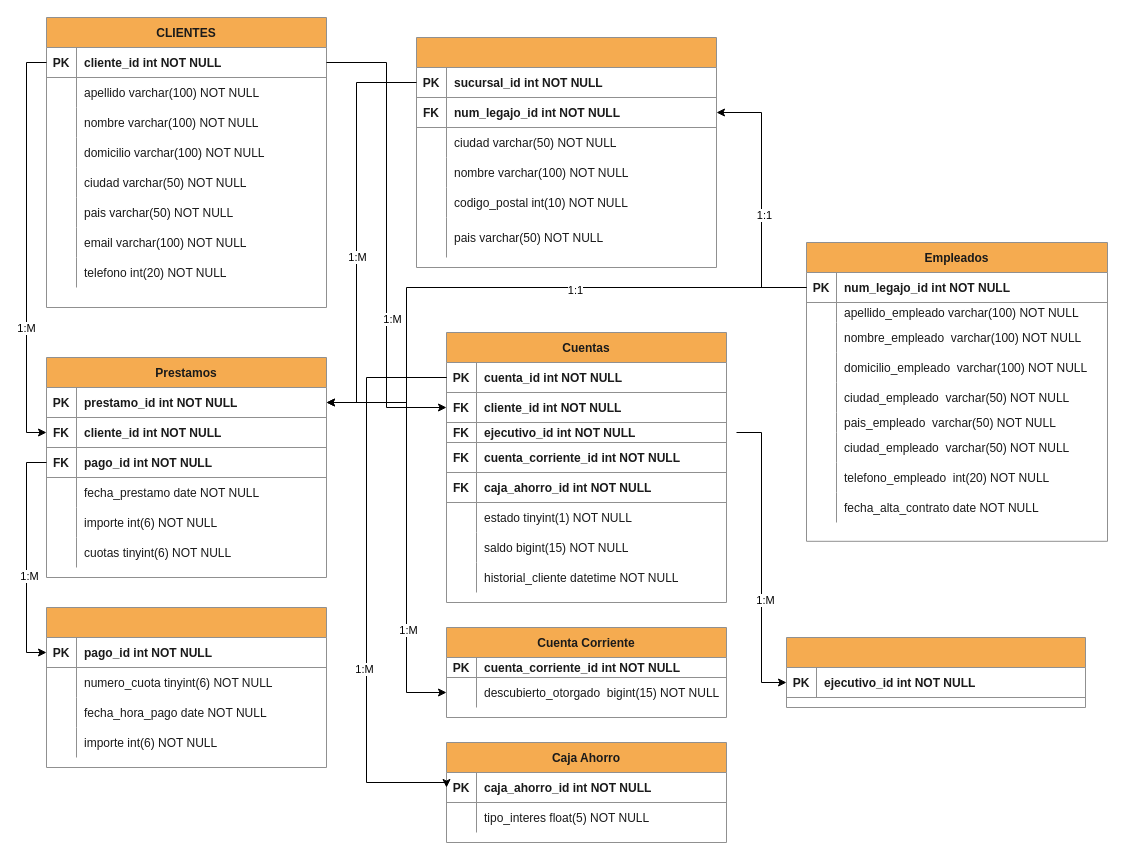
Some shapes in this 1125 by 860 pixel diagram are drawn without their labels. The box of each missing label's shape, as (x1, y1, x2, y2) in pixels:
Ejecutivos: (786, 636, 1086, 708)
Pagos: (46, 606, 326, 768)
SUCURSALES: (416, 36, 716, 268)
